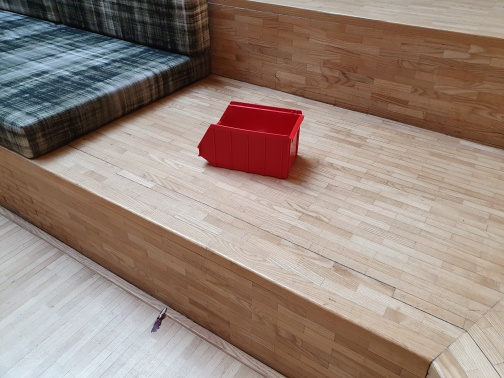tray_right: (198, 123, 293, 181)
